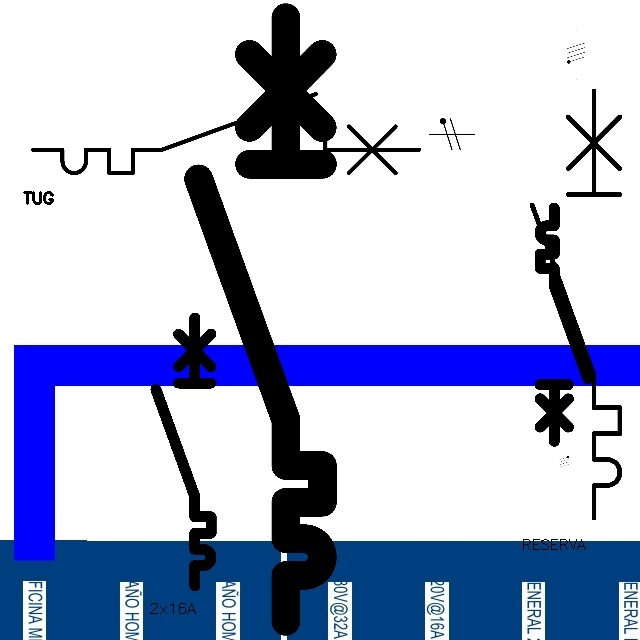interruptor_termomagnetico: (183, 2, 338, 637), (521, 79, 631, 528), (23, 84, 429, 183), (149, 311, 218, 593), (534, 202, 594, 447)
